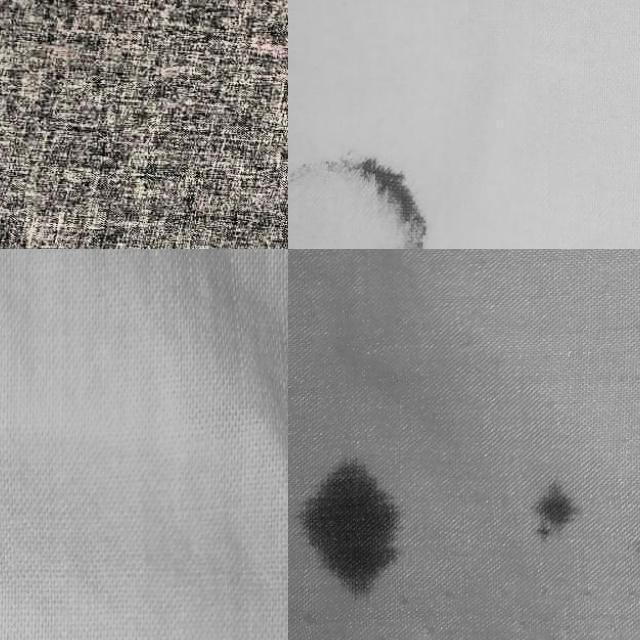Thread_other: (289, 431, 640, 631), (288, 138, 437, 249)
